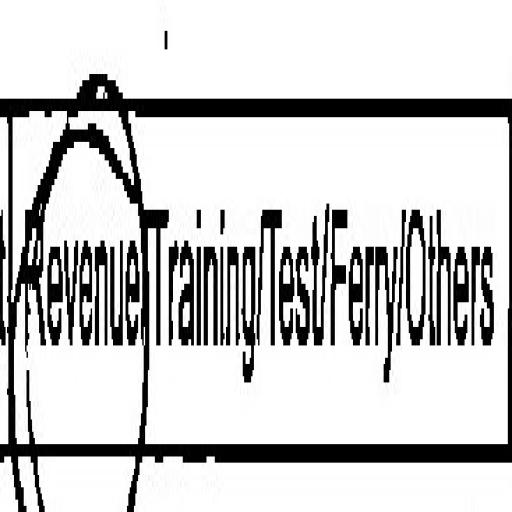check: (12, 0, 143, 512)
